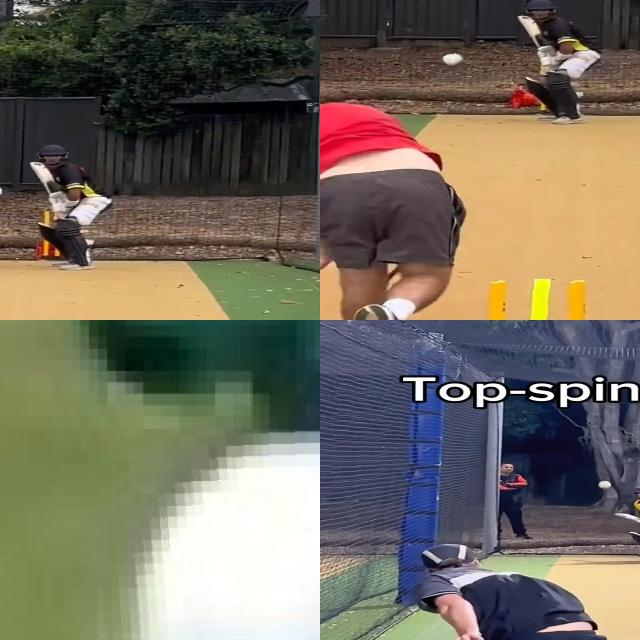Cricket ball: (91, 430, 320, 640), (440, 51, 465, 67), (598, 481, 612, 489)
Stumps: (468, 279, 609, 320)
